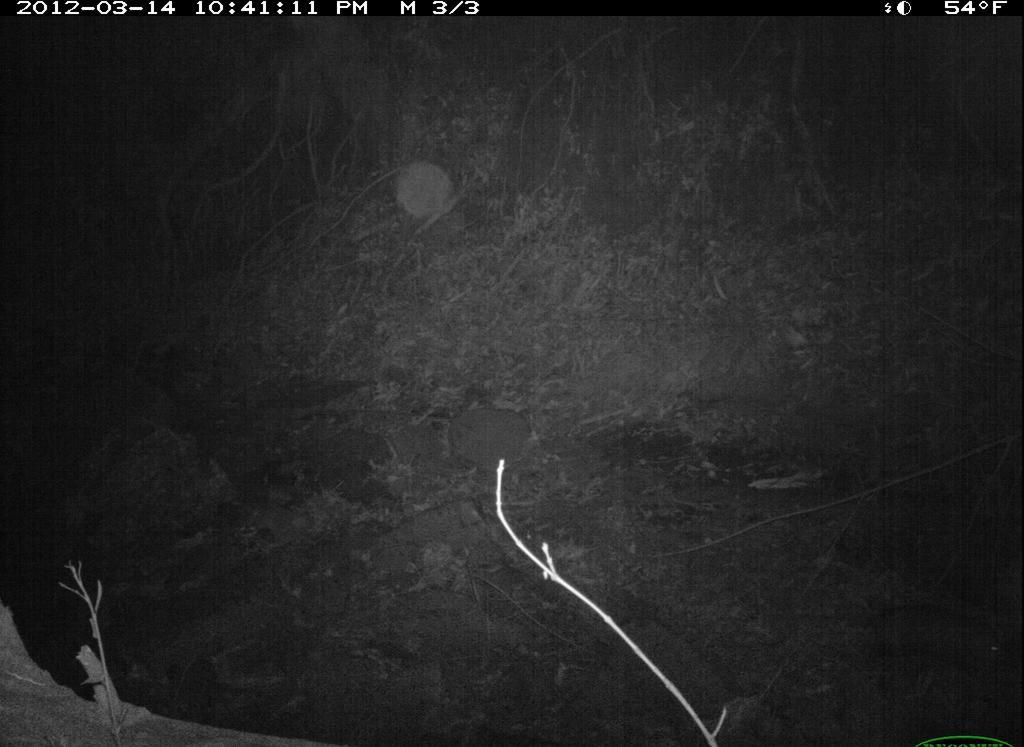opossum: (825, 596, 1019, 684)
